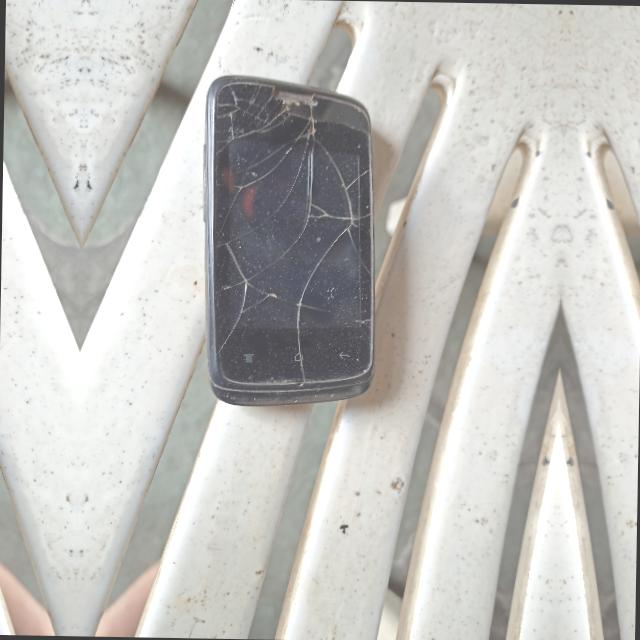phone_screen: (205, 78, 373, 403)
